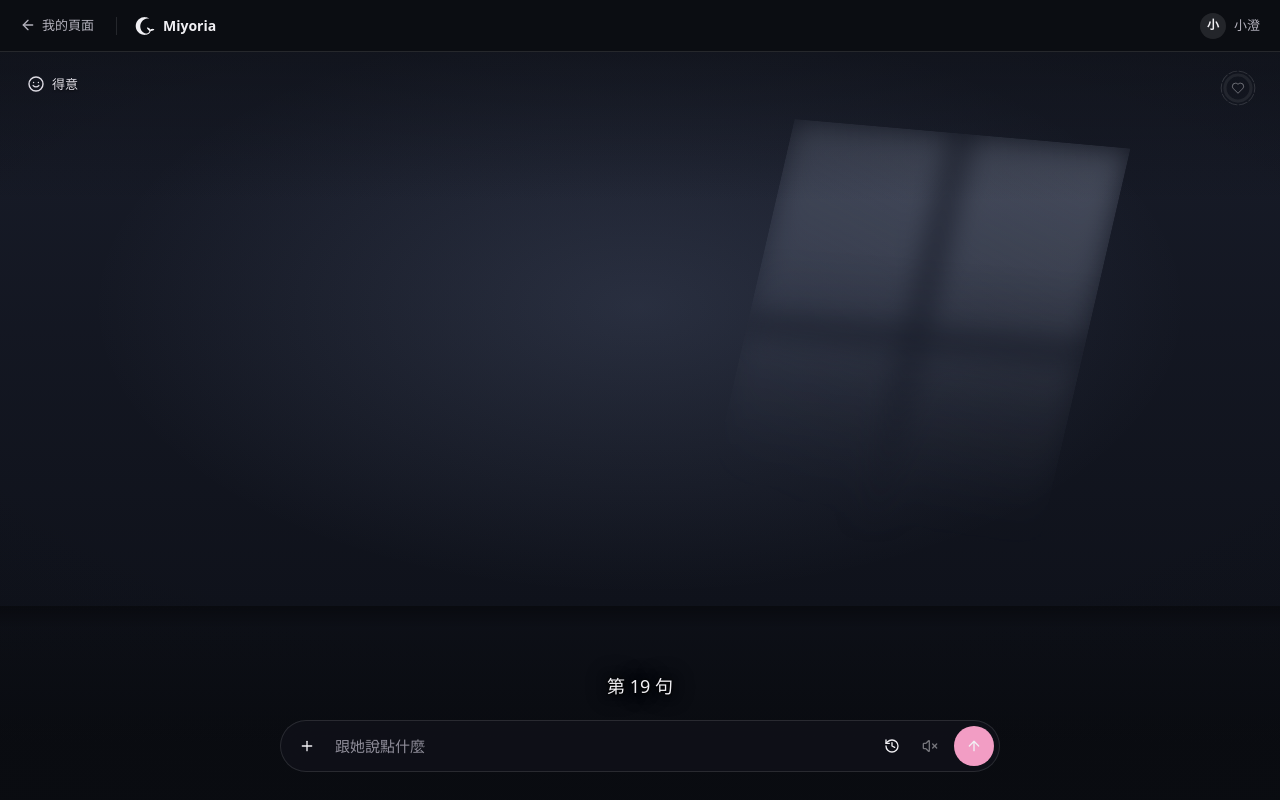
the backlog › opens with PageUp, focus on 關閉, pages back, and closes with Escape back to 紀錄
Expected: the text box named "跟她說的話" is shown, [327,734,872,758]
Press PageUp
(page scrolled)
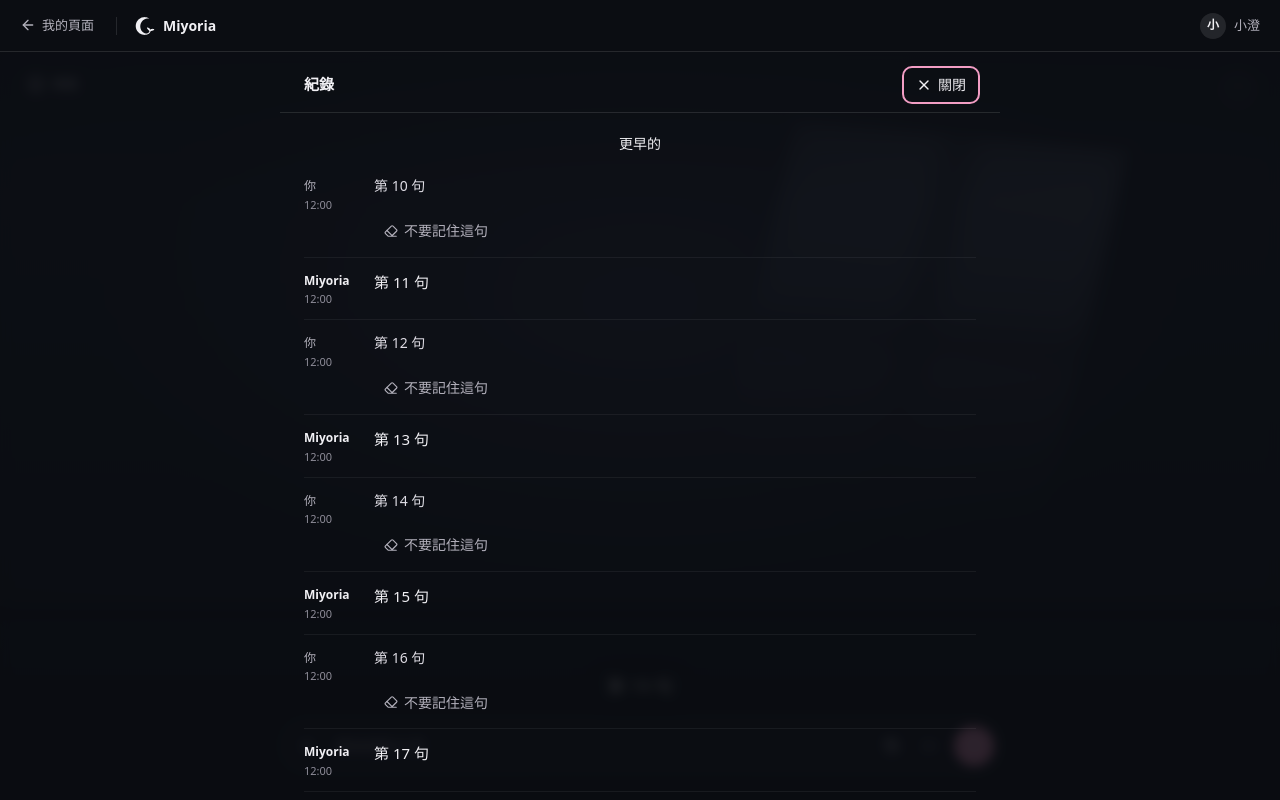
Click the button "更早的".
click(640, 144)  # box [609,129,671,159]
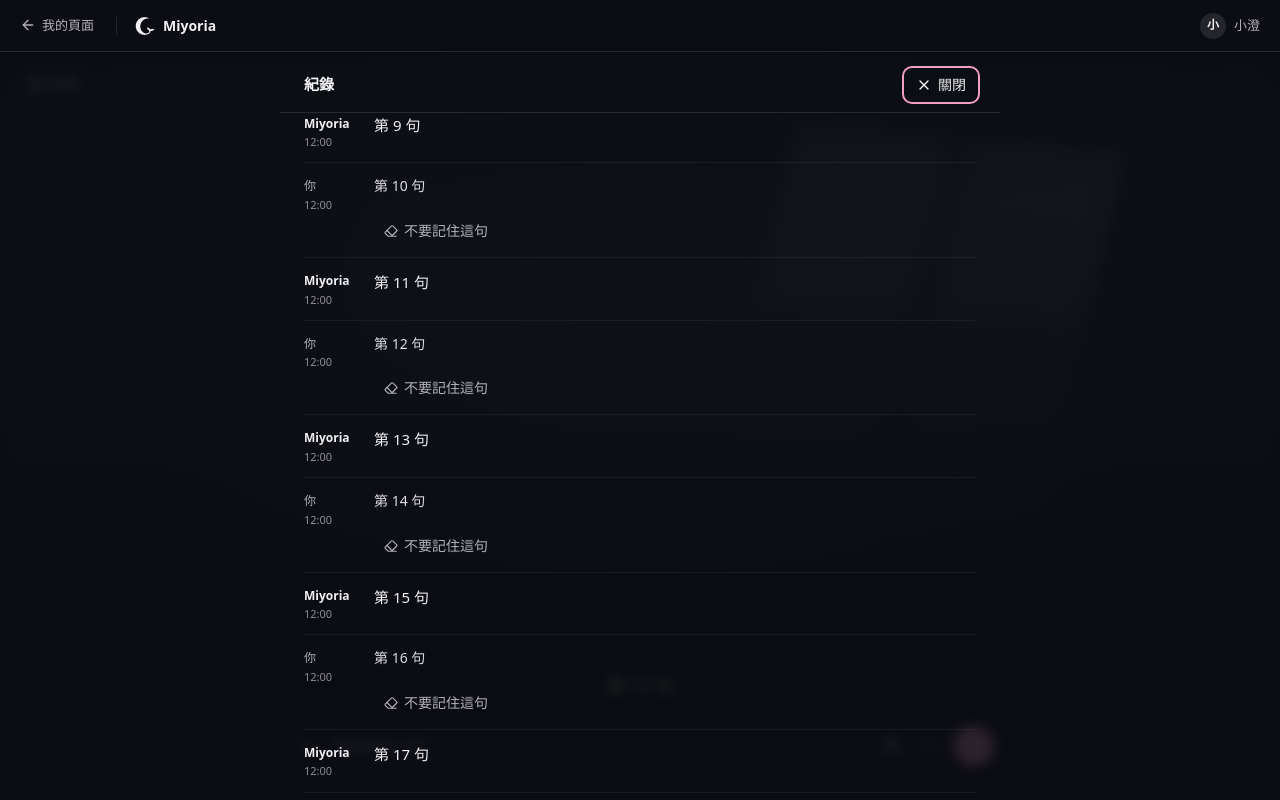
Expected: the button "更早的" is gone
Press Escape in the button "關閉", box [906,70,976,100]
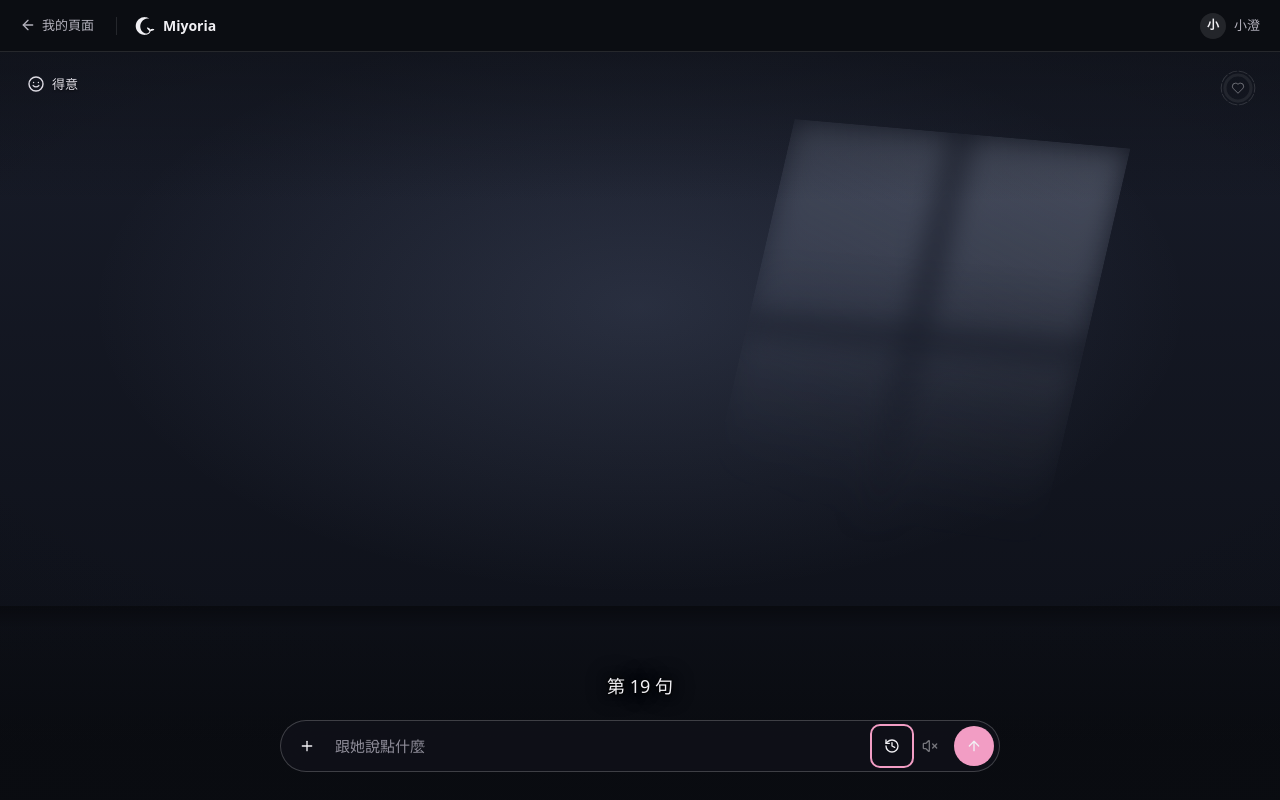
Expected: the heading "紀錄" is gone
